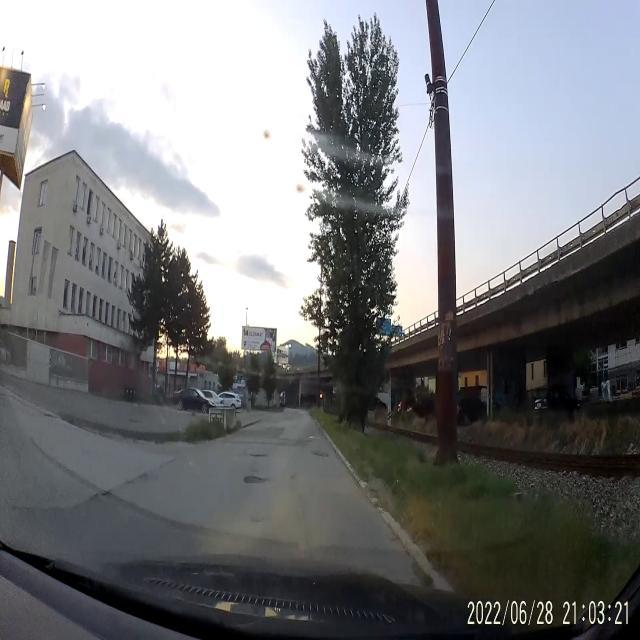Pothole: (243, 470, 271, 484), (312, 450, 329, 457), (250, 452, 266, 458), (249, 516, 262, 522)
